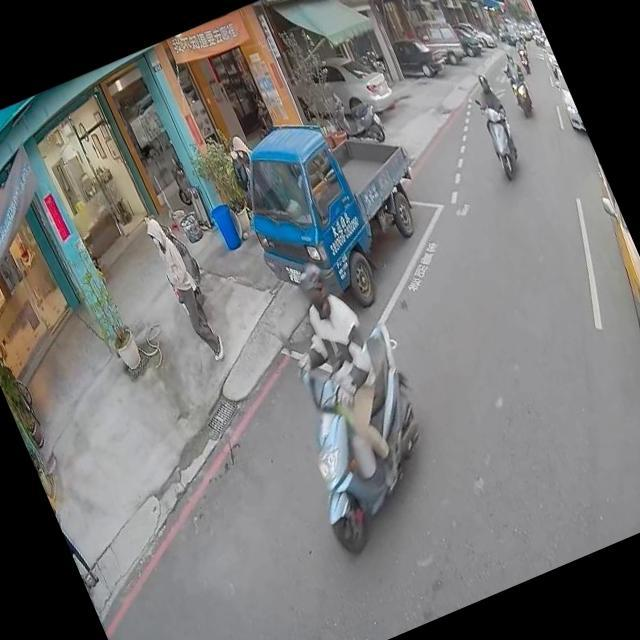person: (256, 252, 429, 510), (138, 204, 232, 368), (463, 72, 523, 165), (217, 140, 268, 220), (226, 129, 262, 182), (496, 48, 528, 90), (508, 31, 526, 53)
